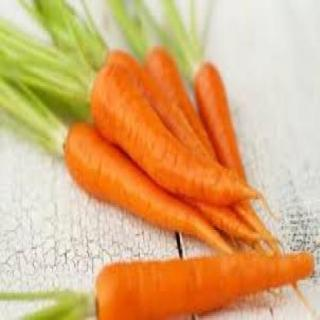Wortel: (61, 55, 260, 204), (47, 118, 234, 250), (42, 253, 315, 320)
